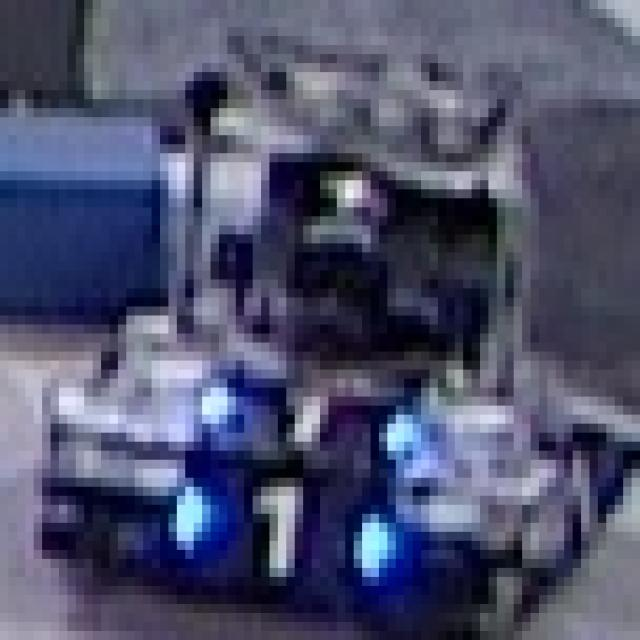B1: (160, 469, 396, 595), (181, 352, 425, 468)
